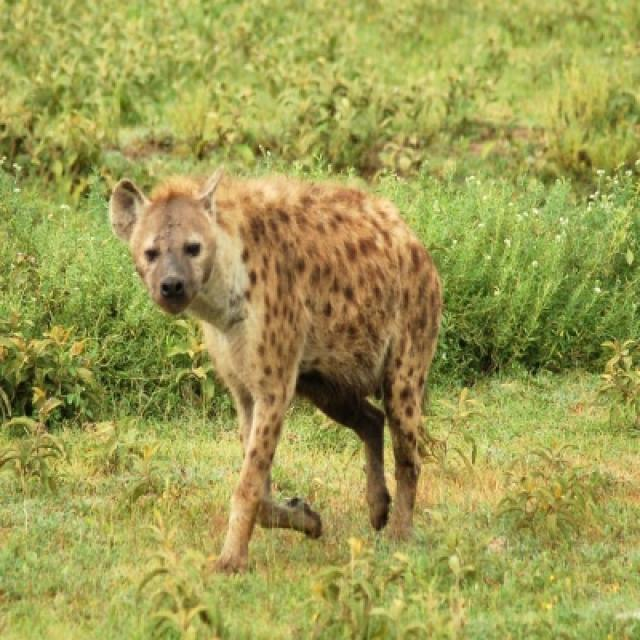hyena: (107, 171, 445, 574)
